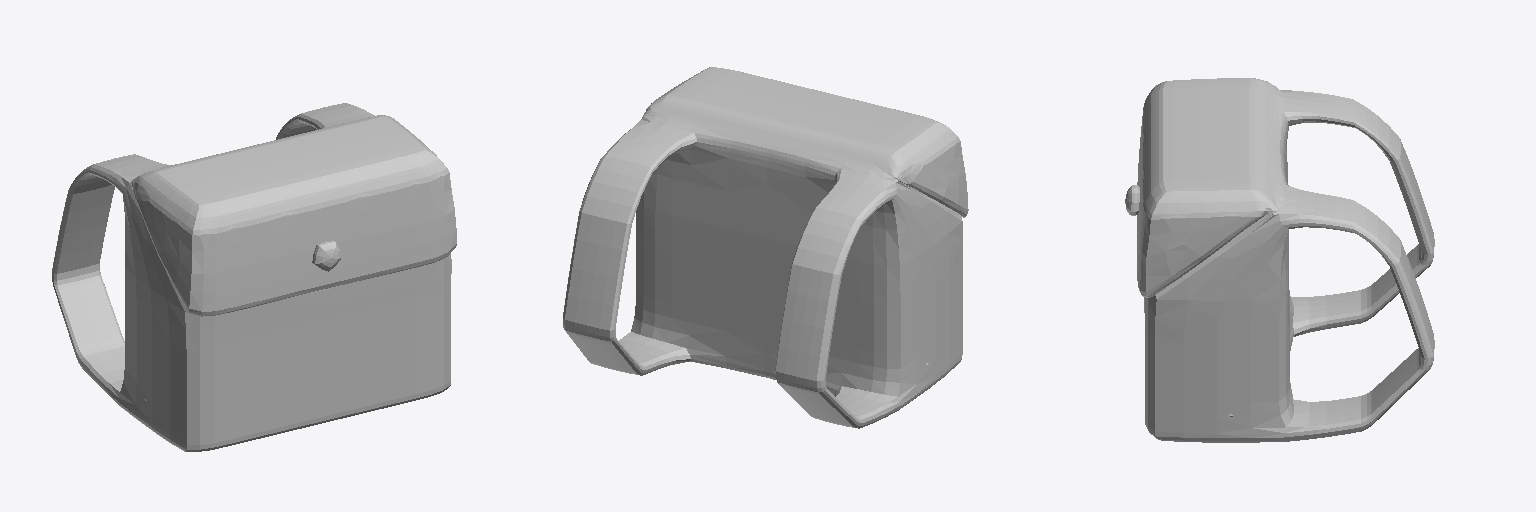
The model's file is backpack.obj.
3 views of the same model, side by side, from view 1: azimuth 30°, elevation 25°; view 2: azimuth 150°, elevation 25°; view 3: azimuth 270°, elevation 25° (orthographic).
Visible parts, largest first — view 1: polySurface5; view 2: polySurface5; view 3: polySurface5.
Part boxes in pixels (x1,y1,x2,y2): polySurface5: (52, 103, 456, 451); polySurface5: (563, 67, 968, 428); polySurface5: (1125, 78, 1434, 442).
Size of the model in its own units: 3.9 by 3.36 by 3.82.